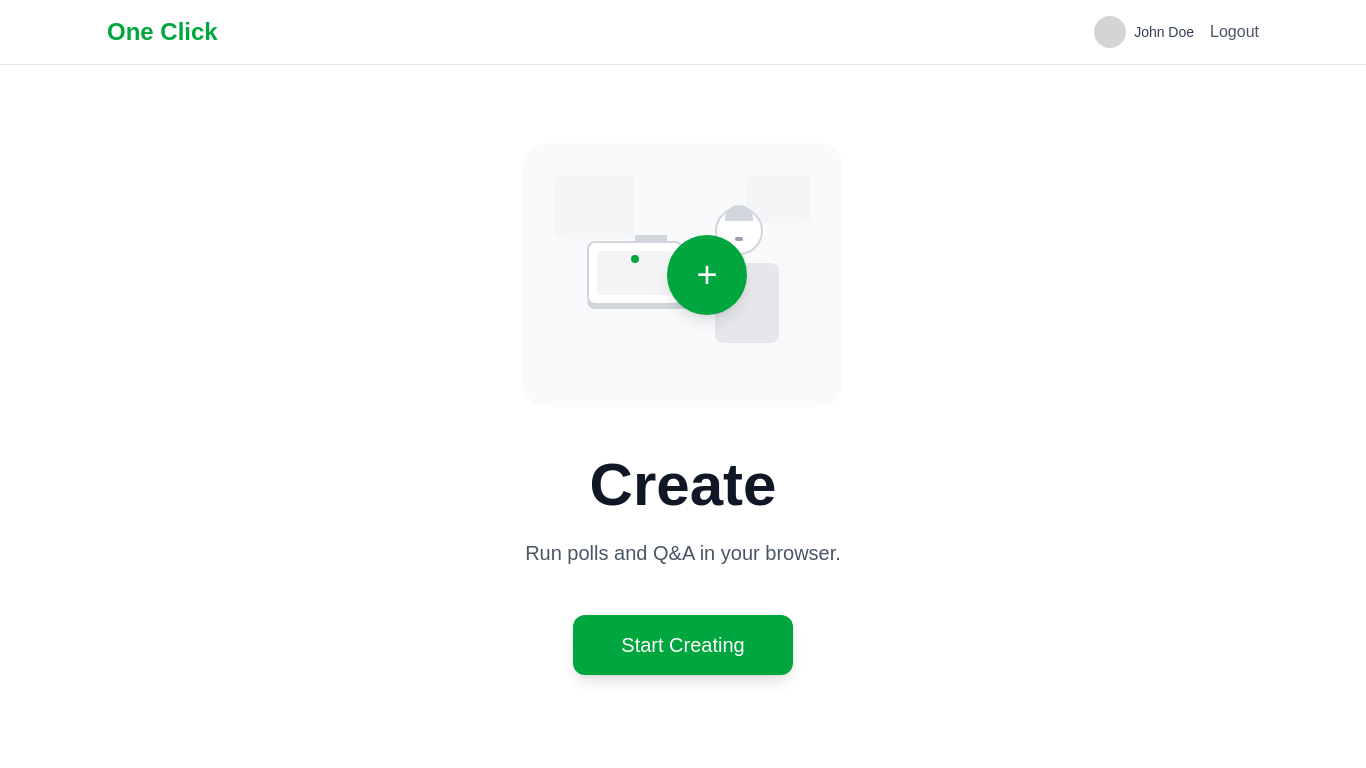
Scenario: Create Page › closes modal when Cancel button is clicked
This screenshot has width=1366, height=768.
// Open modal
Click the button "Start Creating" at (683, 645), box [573,615,793,675]
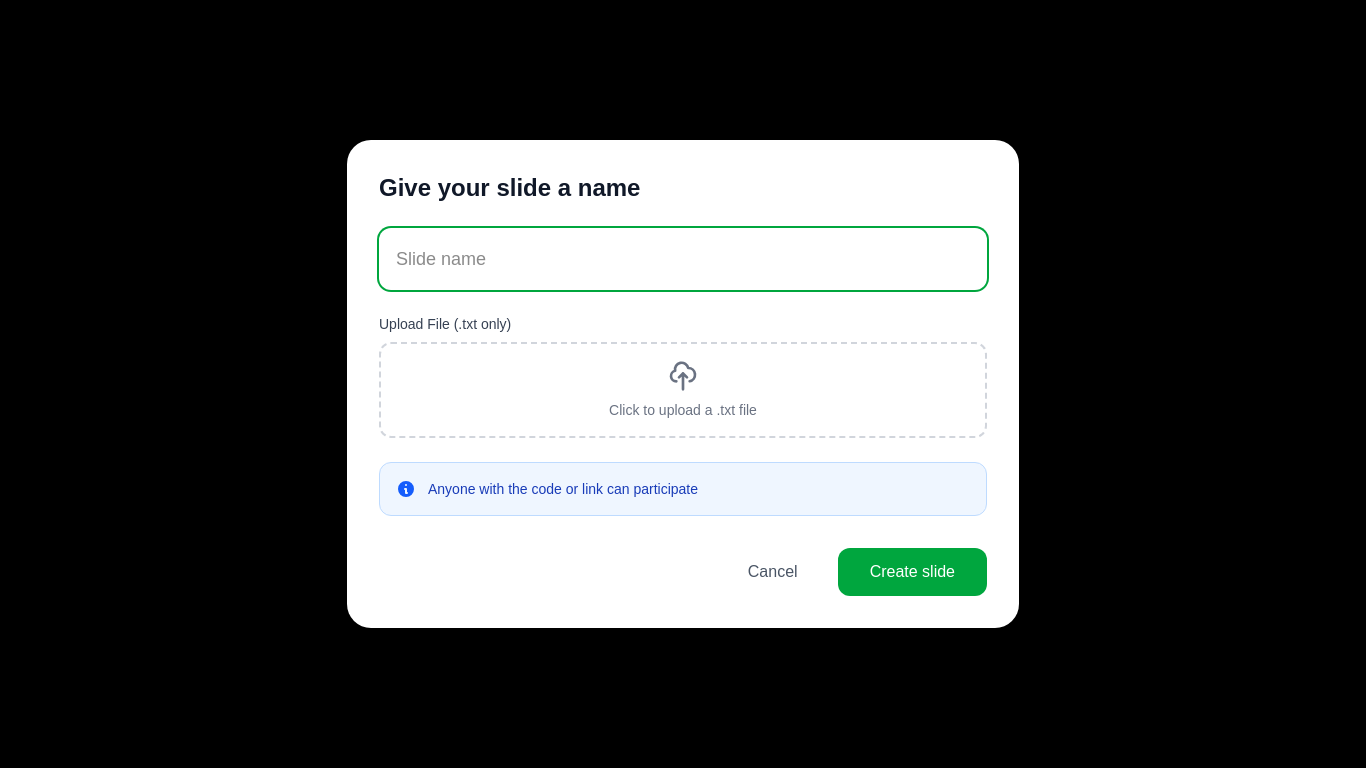
Expected: the heading "Give your slide a name" is shown, [379,174,640,201]
// Close modal
Click the button "Cancel" at (773, 572), box [724,548,822,596]
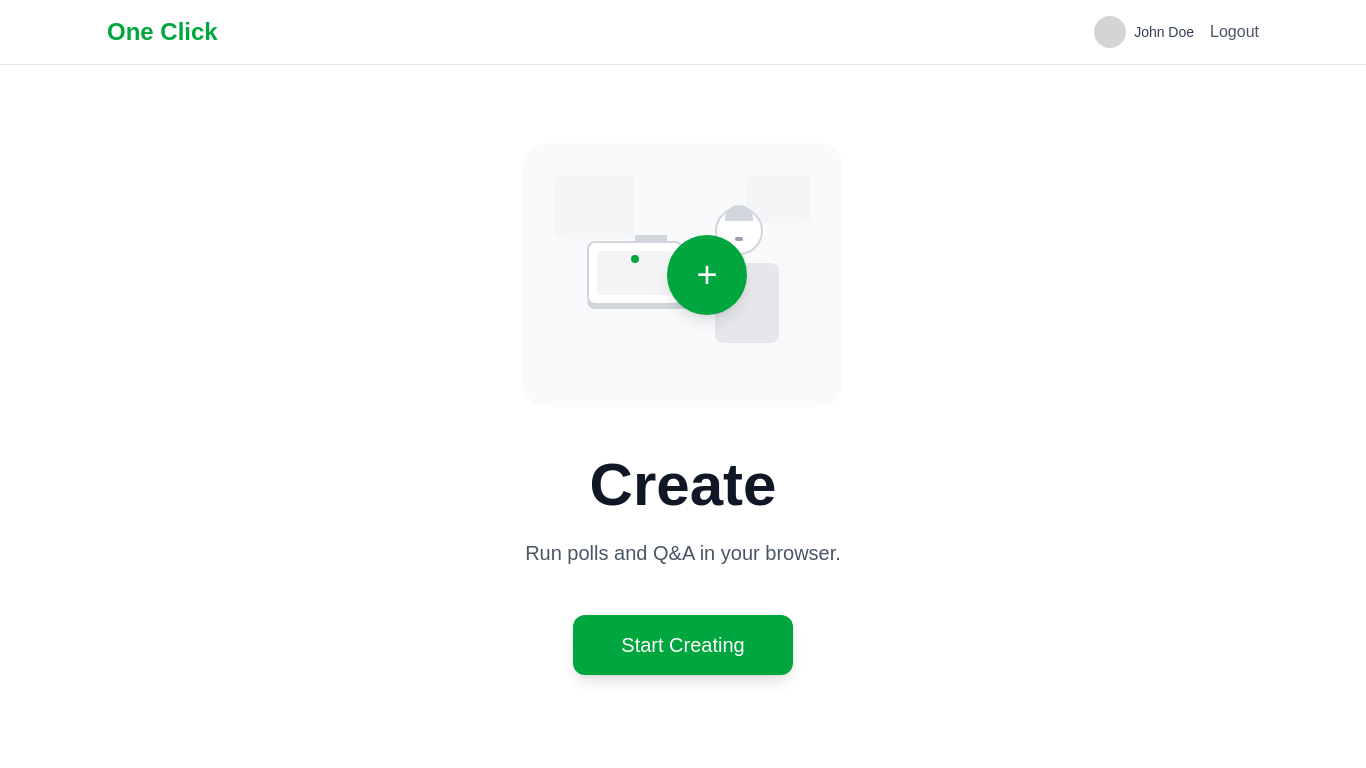
Expected: the heading "Give your slide a name" is gone
